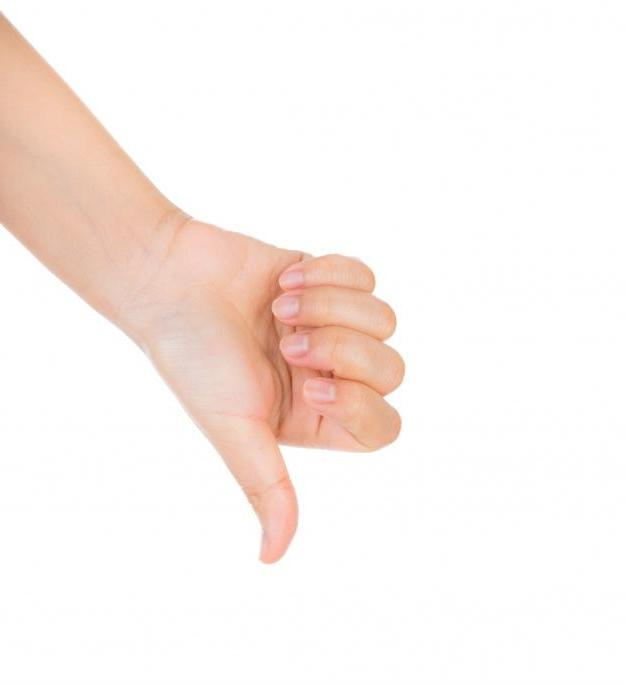thumbsdown: (229, 252, 405, 564)
